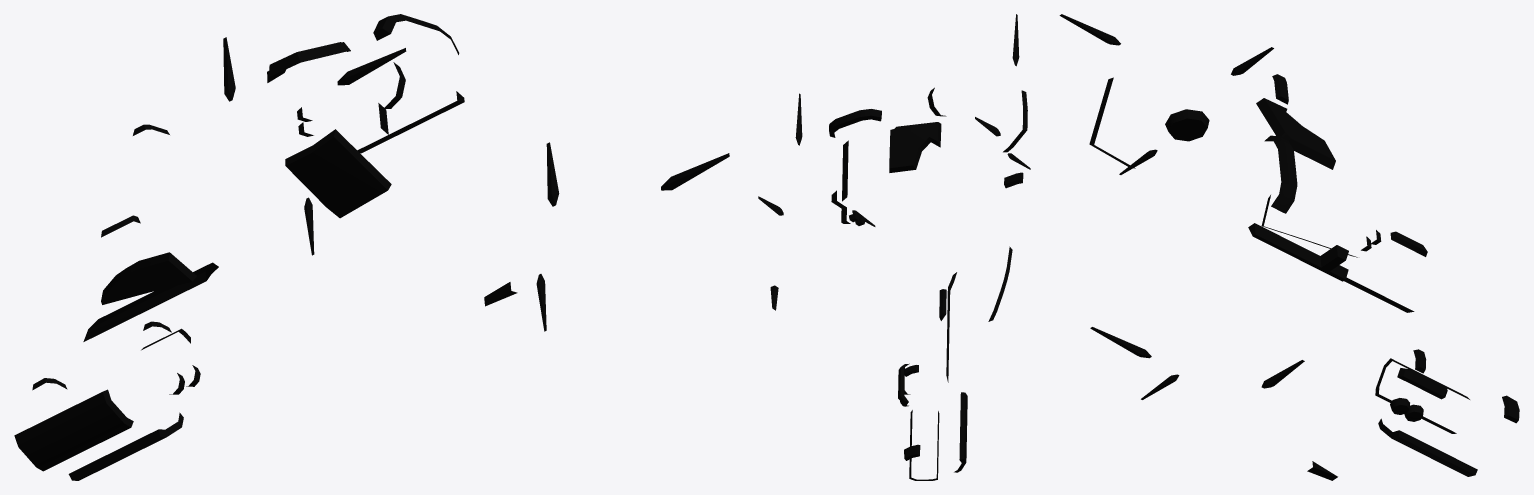
File: ama_ship_wreck_02_06.glb
3 renders of one model, left to right at view 1: azimuth 30°, elevation 25°; view 2: azimuth 150°, elevation 25°; view 3: azimuth 270°, elevation 25°, orthographic. The views are drawn at different scales.
Parts seen in each view (by area): view 1: ama_ship_wreck_02_06_LOD0; view 2: ama_ship_wreck_02_06_LOD0; view 3: ama_ship_wreck_02_06_LOD0.
Boxes of the visible parts, box(x1,y1,x2,y2) form: ama_ship_wreck_02_06_LOD0: box(14, 14, 729, 480); ama_ship_wreck_02_06_LOD0: box(758, 14, 1030, 480); ama_ship_wreck_02_06_LOD0: box(1059, 14, 1519, 480).
Size of what is drawn, in the model's own units: 3.23 by 3.63 by 3.07.
Materials: 2 (2 with a texture image).
